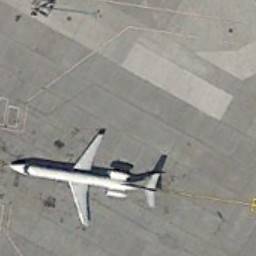Airplane: (5, 123, 171, 235)
